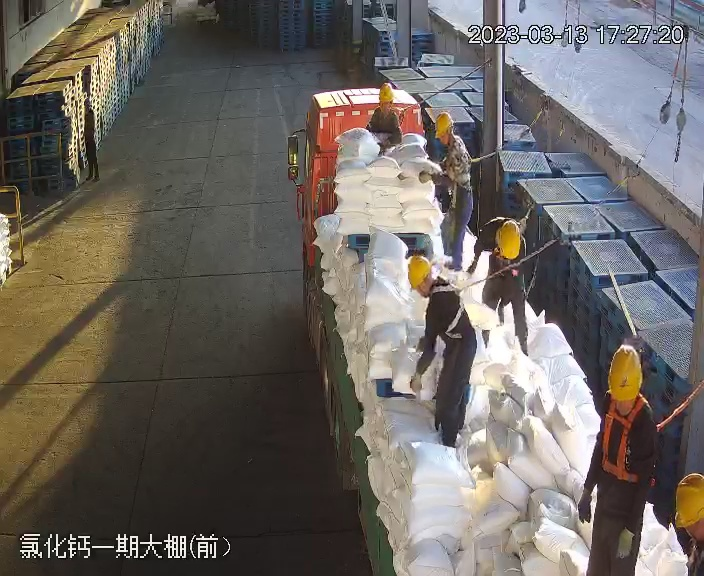belt: (599, 402, 657, 476), (431, 279, 473, 337), (440, 136, 482, 179), (486, 233, 528, 271)
head: (590, 351, 661, 444), (405, 257, 461, 316), (671, 477, 704, 574), (477, 219, 530, 268), (428, 113, 471, 161), (368, 85, 403, 132)
helmet: (605, 345, 644, 401), (672, 477, 704, 529), (493, 220, 523, 259), (406, 255, 433, 291), (433, 112, 454, 136), (377, 85, 395, 102)
people: (579, 356, 663, 575), (402, 255, 479, 450), (419, 110, 478, 275), (466, 218, 535, 358)
truck: (294, 84, 693, 576)
